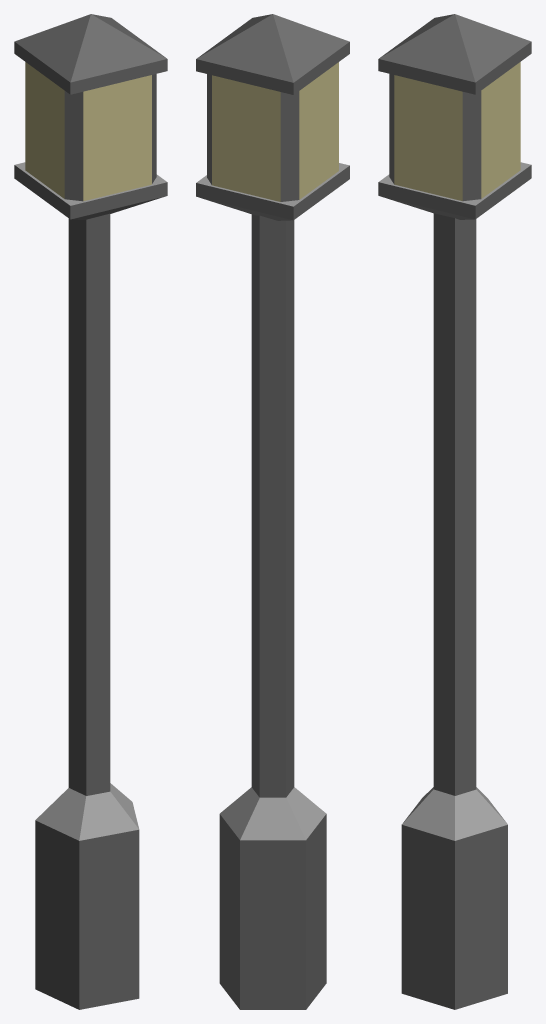
File: pillar_006.glb
3 views of the same model, side by side, from view 1: azimuth 30°, elevation 25°; view 2: azimuth 150°, elevation 25°; view 3: azimuth 330°, elevation 25° (orthographic).
Parts seen in each view (by area): view 1: pillar_006; view 2: pillar_006; view 3: pillar_006.
Boxes of the visible parts, box(x1,y1,x2,y2) form: pillar_006: box(14, 14, 167, 1009); pillar_006: box(196, 14, 349, 1009); pillar_006: box(378, 14, 531, 1009).
Bounding box in the file's own units: 0.3229 × 3.09 × 0.3229.
1 material, 1 textured.
